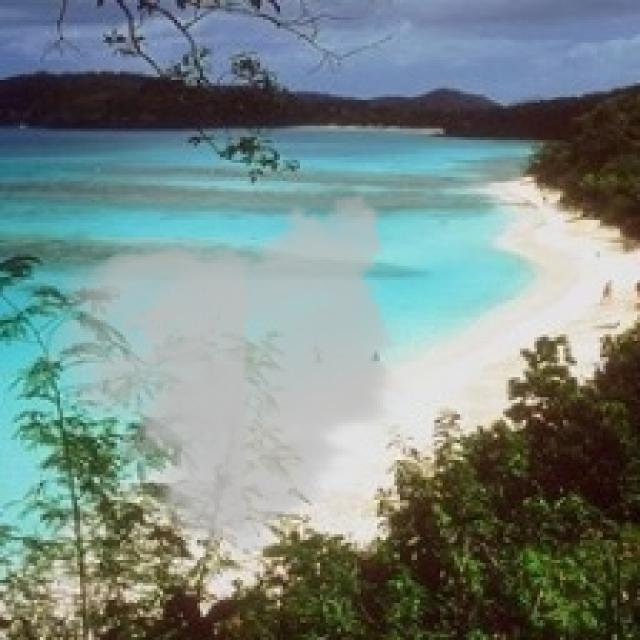Smoke: (37, 177, 409, 569)
